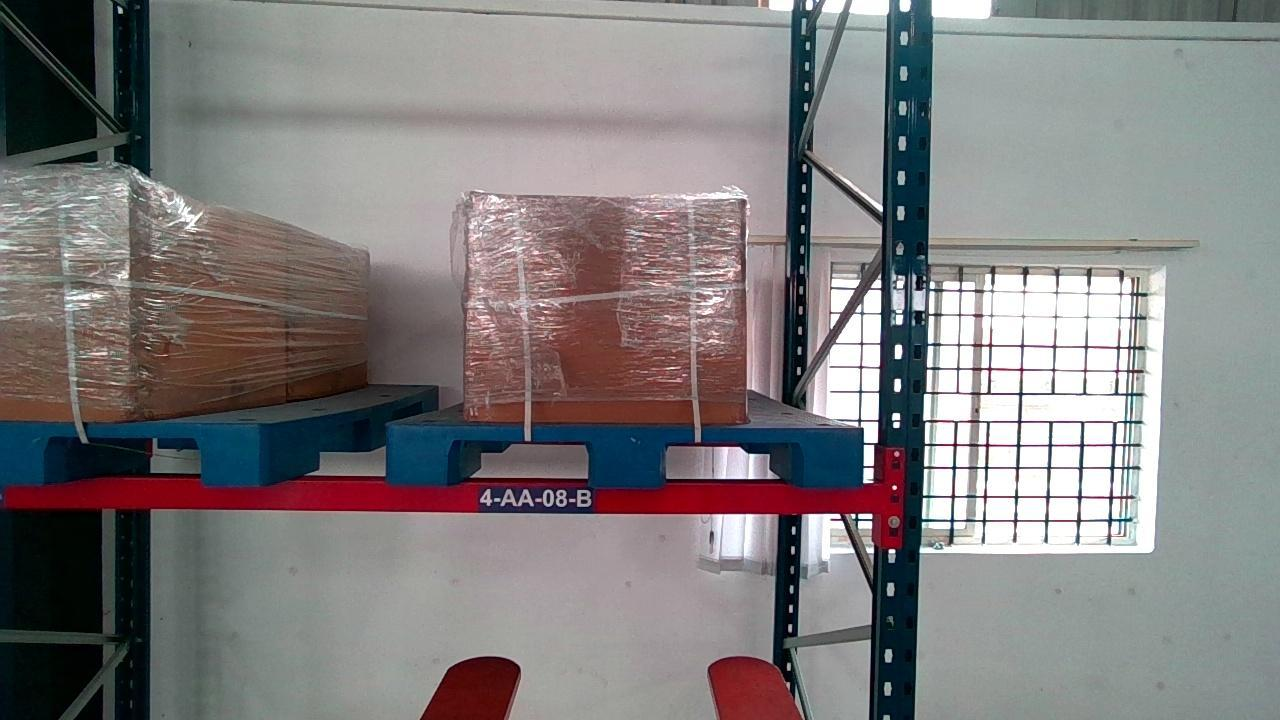h_rack: (0, 477, 878, 512)
small_pallet: (386, 422, 867, 489), (0, 422, 259, 488)
